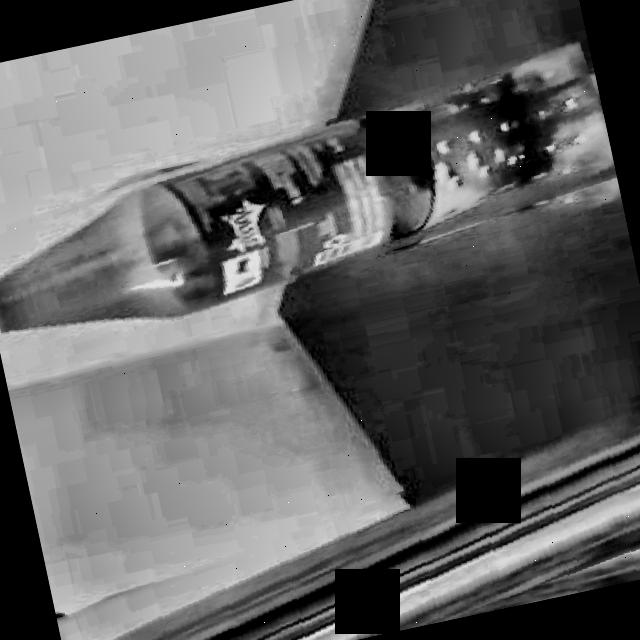bottle: (0, 39, 614, 335), (112, 401, 640, 640)
